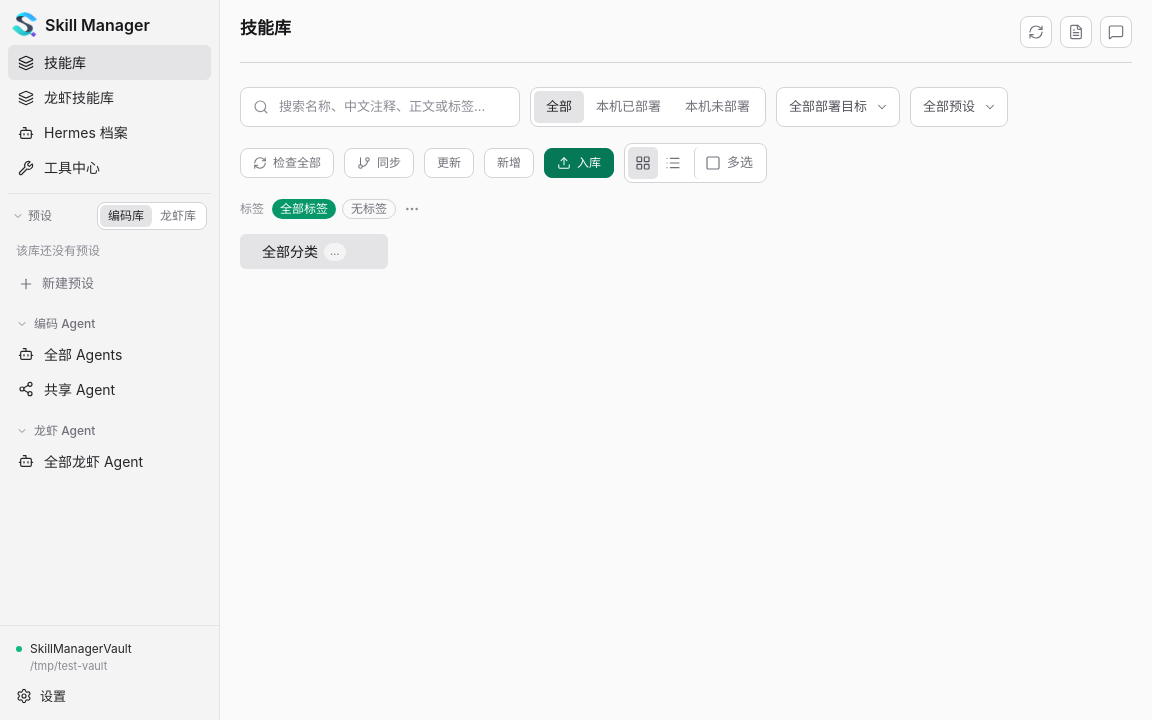
Test: 拉取异常时显示原因，允许用户再次点击
The width and height of the screenshot is (1152, 720).
Step 1. Click the button named "检查并拉取 SkillManagerVault" → [1036, 32], box x1=1020 y1=16 x2=1052 y2=48
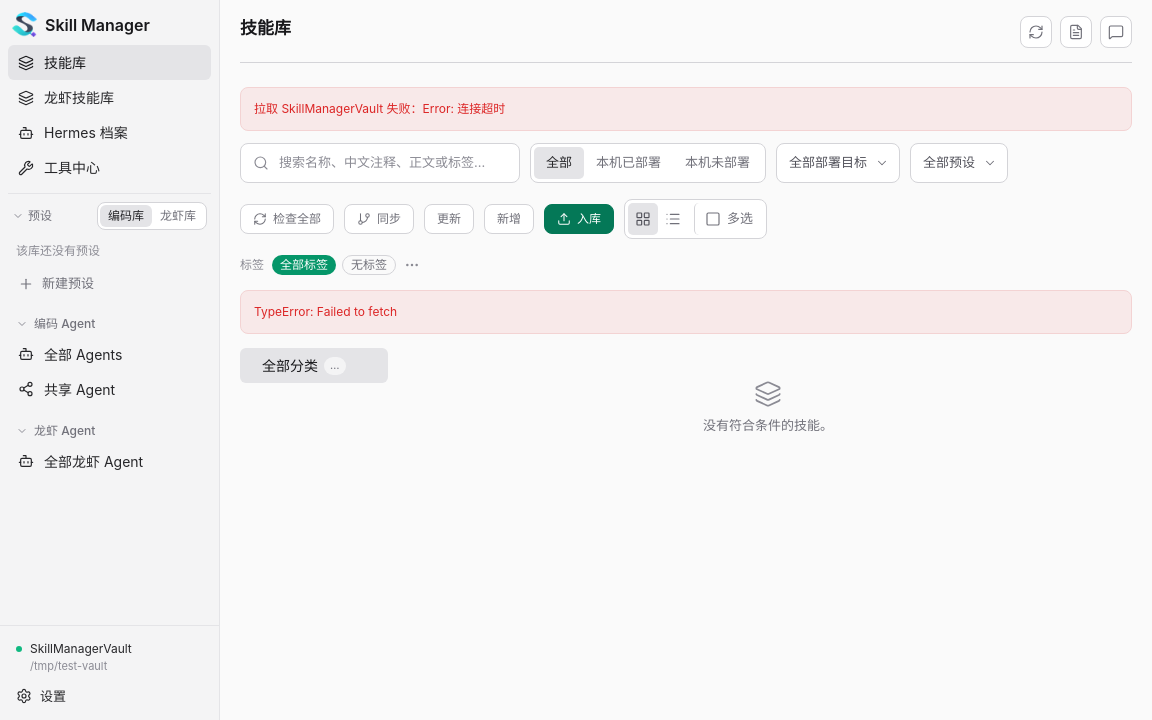
Result: the text "拉取 SkillManagerVault 失败：Error: 连接超时" is shown at x1=240 y1=87 x2=1132 y2=131
Step 2. Click the button named "检查并拉取 SkillManagerVault" → [1036, 32], box x1=1020 y1=16 x2=1052 y2=48
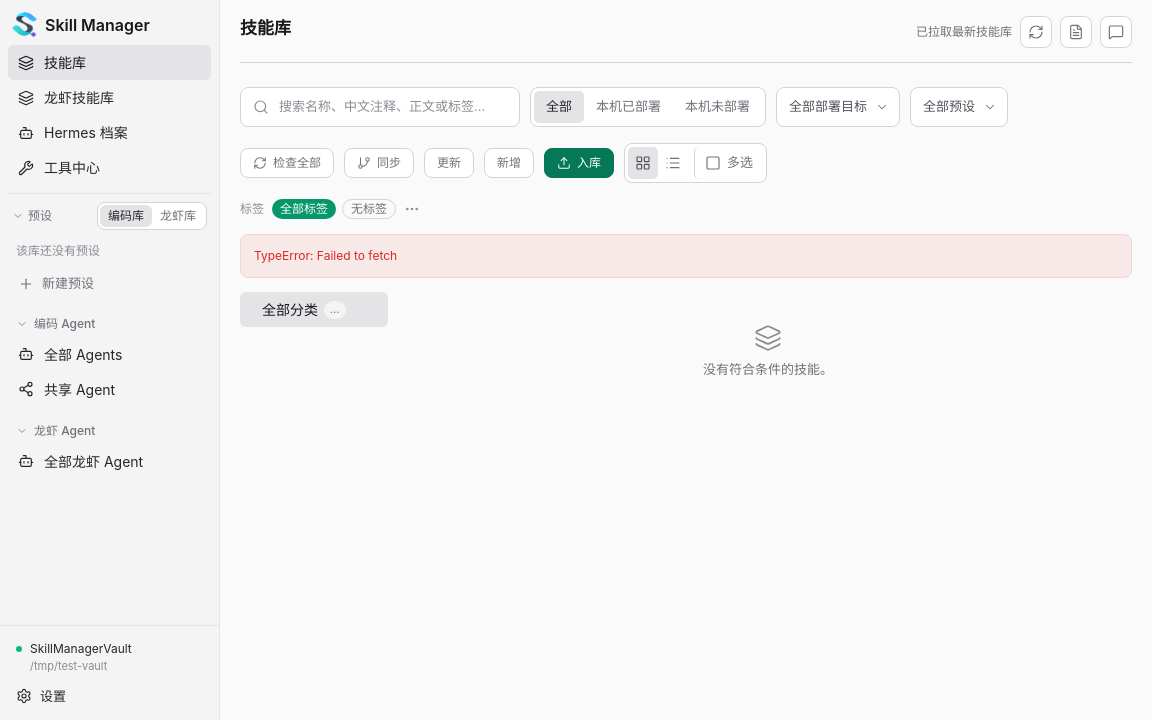
Result: the text "已拉取最新技能库" is shown at x1=916 y1=23 x2=1012 y2=41
